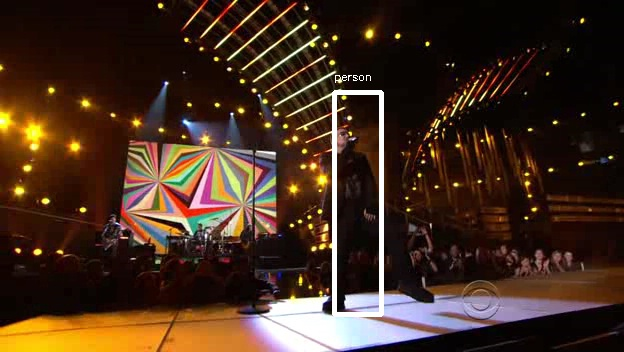person: (314, 126, 381, 242), (311, 126, 378, 242), (317, 126, 384, 242), (314, 123, 381, 239), (314, 129, 381, 245)
target_negative: (436, 2, 594, 314), (279, 132, 478, 224), (311, 100, 372, 330), (542, 237, 559, 325), (513, 147, 528, 196), (449, 323, 483, 334)
